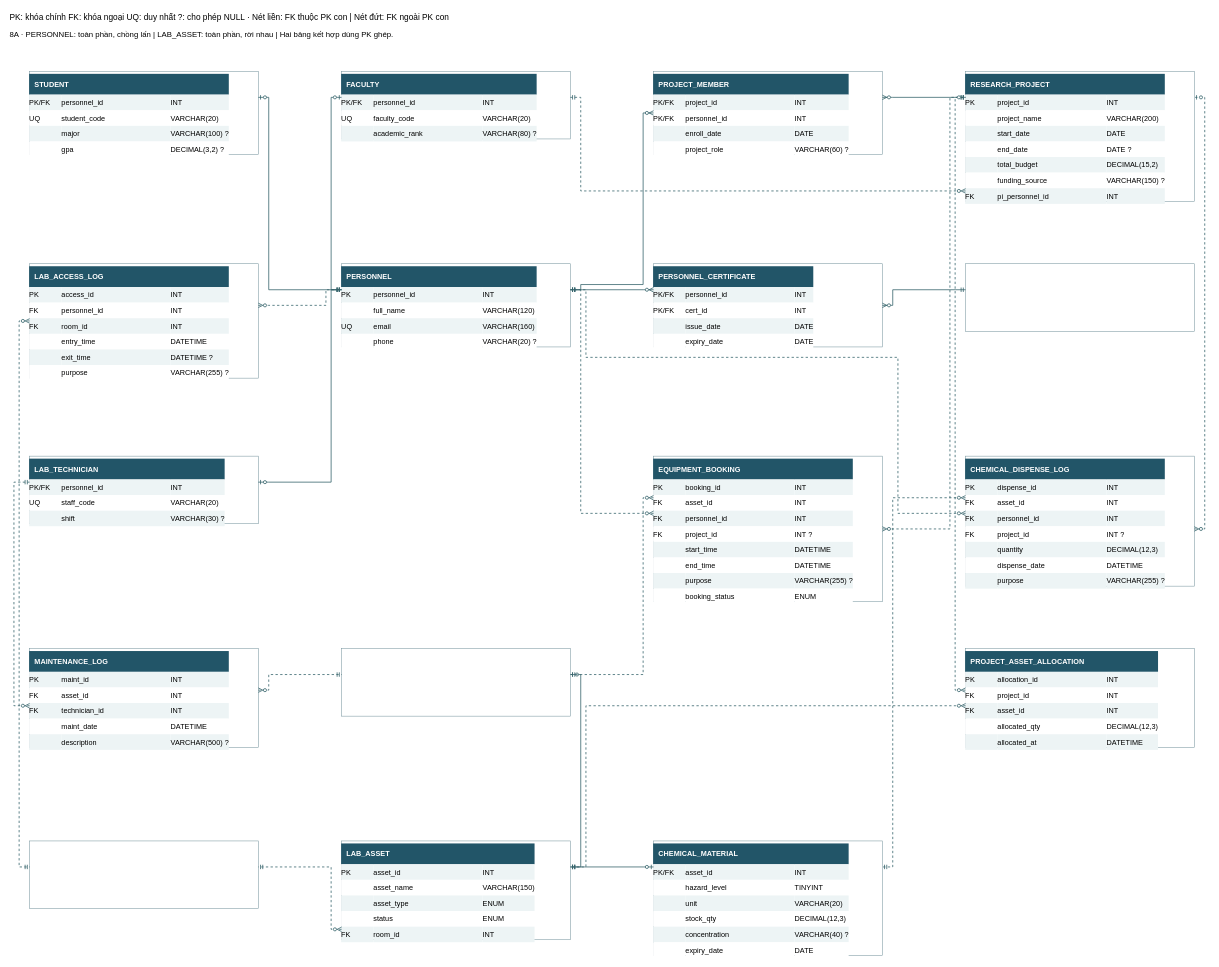
This 1219x967 diagram has some shape labels left out. Each missing label, with the centre of its shape:
"EQUIPMENT PK/FK asset_id INT UQ serial_number VARCHAR(80) model VARCHAR(100) ?" belongs at (x=455, y=682).
"LAB_ROOM PK room_id INT UQ room_name VARCHAR(120) safety_category TINYINT" belongs at (x=143, y=874).
"SAFETY_CERTIFICATE PK cert_id INT UQ cert_name VARCHAR(120) hazard_level TINYINT" belongs at (x=1079, y=297).
